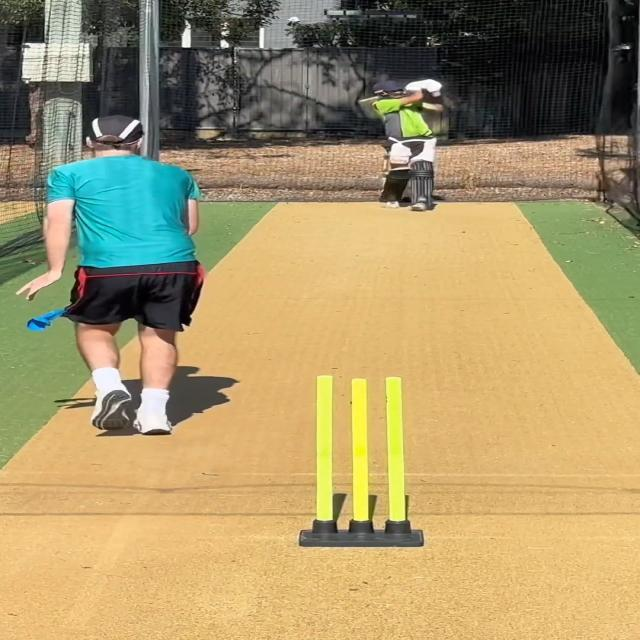stump: (297, 373, 424, 548)
